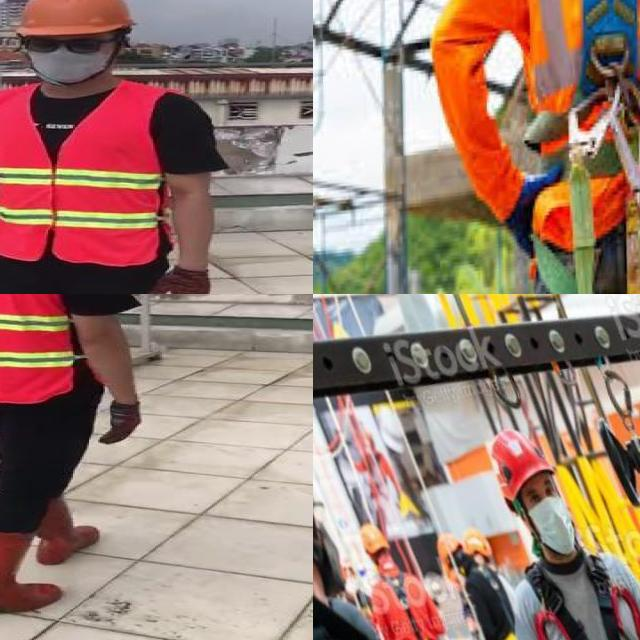Harness: (532, 0, 640, 294)
boots: (0, 525, 60, 614), (30, 500, 100, 565)
face_mask: (19, 32, 113, 84)
glasses: (15, 29, 110, 56)
hand_glove: (147, 269, 213, 294), (103, 401, 139, 445)
head_helmet: (11, 0, 136, 36)
person: (0, 0, 221, 294), (0, 294, 169, 625)
vest: (0, 83, 162, 265), (0, 294, 85, 400)
